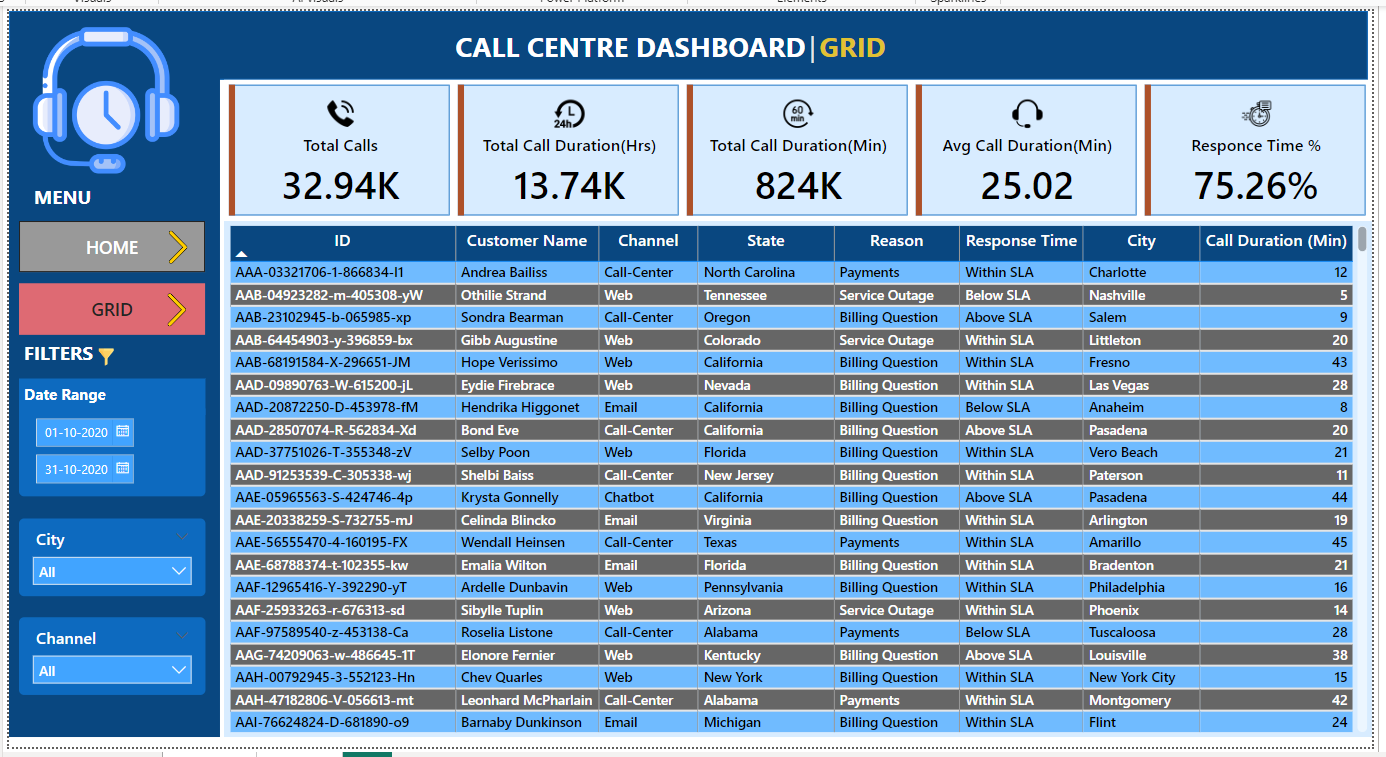

Layout of this report page (visuals, bound fields, positions):
{"tool":"powerbi","page":{"name":"GRID","canvas":[1333,720],"ordinal":1},"visuals":[{"type":"shape","box":[0,0,1329.2,67.3],"z":0},{"type":"shape","box":[0,34.2,206.7,676.2],"z":1000},{"type":"cardVisual","fields":{"Data":["Call_Center Dataset.Total Calls","Call_Center Dataset.Total Call Duration(Hrs)","Call_Center Dataset.Total Call Duration(Min)","Call_Center Dataset.Avg Call Duration(Min)","Call_Center Dataset.Responce Time %"]},"box":[210.3,67.3,1122.6,138.2],"z":2000},{"type":"textbox","box":[431.7,11,712.9,56.3],"z":9000},{"type":"slicer","fields":{"Values":["Call_Center Dataset.City"]},"box":[9.8,496.5,182.2,75.8],"z":10000},{"type":"slicer","fields":{"Values":["Call_Center Dataset.Channel"]},"box":[9.8,593.1,182.2,75.8],"z":11000},{"type":"image","box":[9.8,11,170,152.9],"z":12000},{"type":"slicer","fields":{"Values":["Date Table.Date"]},"box":[9.8,385.2,182.2,89.3],"z":13000},{"type":"textbox","box":[9.8,359.5,182.2,35.5],"z":14000},{"type":"textbox","box":[9.8,316.7,91.7,42.8],"z":15000},{"type":"textbox","box":[19.6,163.9,84.4,41.6],"z":16000},{"type":"tableEx","fields":{"Values":["Call_Center Dataset.Id","Call_Center Dataset.Customer Name","Call_Center Dataset.Channel","Call_Center Dataset.State","Call_Center Dataset.Reason","Call_Center Dataset.Response Time","Call_Center Dataset.City","Sum(Call_Center Dataset.Call Duration In Minutes)"]},"box":[210,205,1123,505],"z":16001},{"type":"pageNavigator","box":[9.8,266.6,182.2,50.1],"z":16002},{"type":"pageNavigator","box":[9.8,205.4,182.2,50.1],"z":16003},{"type":"image","box":[118.6,271.5,91.7,41.6],"z":16004},{"type":"image","box":[119.8,210.3,91.7,41.6],"z":16005},{"type":"image","box":[77,325.3,35.5,26.9],"z":16006}]}

Visuals, with their boxes on the page's 1333x720 design canvas (x1, y1, x2, y2). These are canvas units, not pixel positions in the 1386x757 screenshot, which may show the page scaled, cropped or inside an application window:
shape: box(0, 0, 1329, 67)
shape: box(0, 34, 207, 710)
cardVisual - Call_Center Dataset.Total Calls x Call_Center Dataset.Total Call Duration(Hrs): box(210, 67, 1333, 206)
textbox: box(432, 11, 1145, 67)
slicer - Call_Center Dataset.City: box(10, 496, 192, 572)
slicer - Call_Center Dataset.Channel: box(10, 593, 192, 669)
image: box(10, 11, 180, 164)
slicer - Date Table.Date: box(10, 385, 192, 474)
textbox: box(10, 360, 192, 395)
textbox: box(10, 317, 102, 360)
textbox: box(20, 164, 104, 206)
tableEx - Call_Center Dataset.Id x Call_Center Dataset.Customer Name: box(210, 205, 1333, 710)
pageNavigator: box(10, 267, 192, 317)
pageNavigator: box(10, 205, 192, 256)
image: box(119, 272, 210, 313)
image: box(120, 210, 212, 252)
image: box(77, 325, 112, 352)
